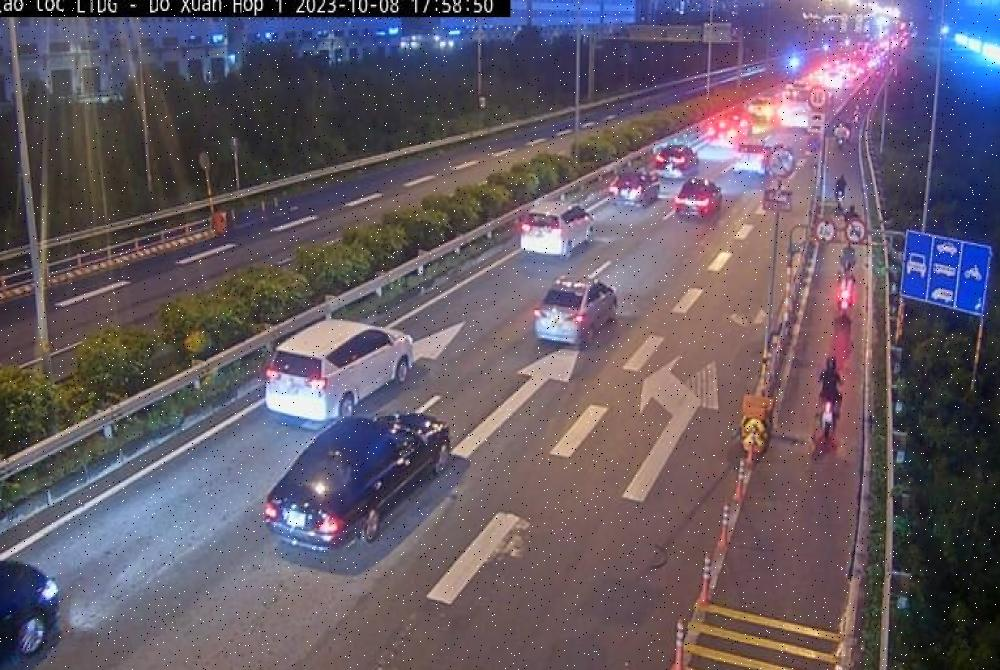car: (262, 415, 450, 552), (264, 321, 414, 430), (0, 558, 63, 670), (534, 276, 618, 348), (518, 208, 600, 259), (672, 178, 723, 224), (607, 170, 660, 210), (656, 144, 699, 177)
